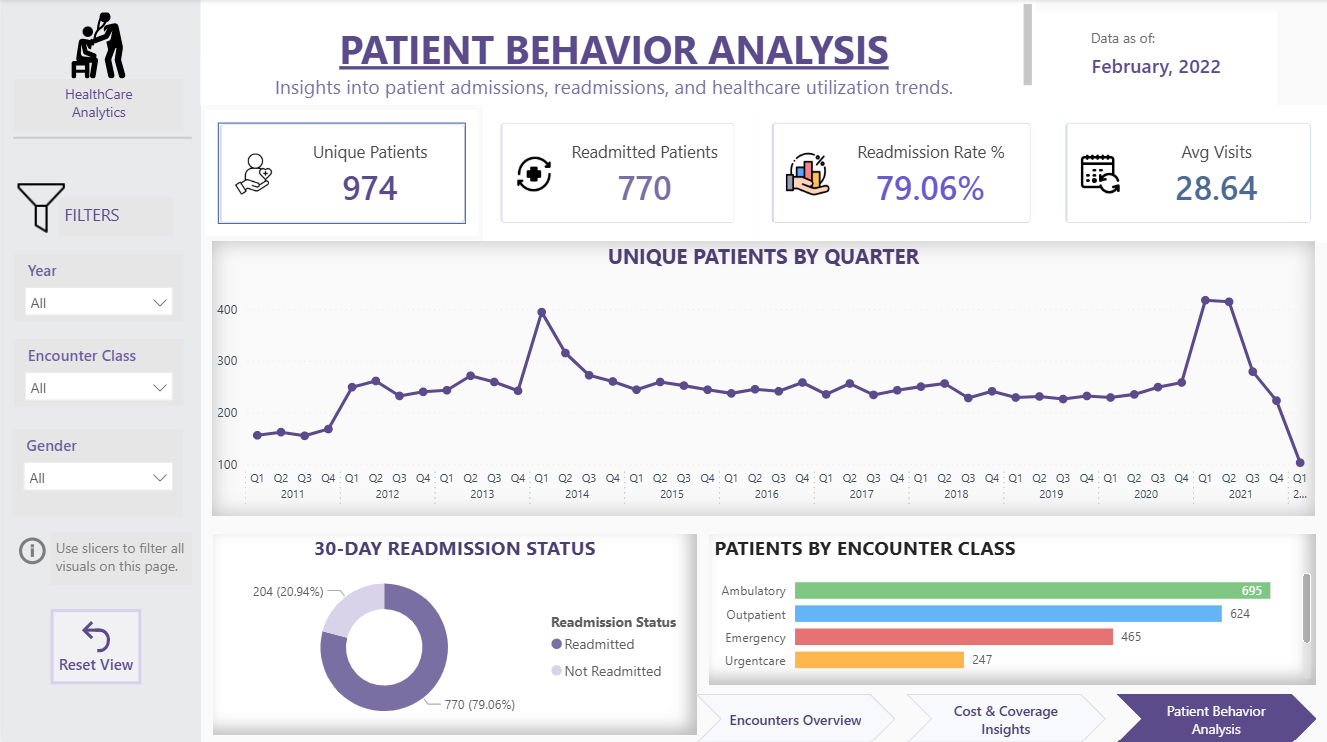

The dashboard page shown, as its layout file describes it:
{"tool":"powerbi","page":{"name":"Patient Behavior Analysis","canvas":[1280,720],"ordinal":2},"visuals":[{"type":"group","id":"g1","title":"Left Pane Group","box":[0,0,190.8,720.2],"z":0},{"type":"shape","title":"Sidebar BackgroundSidebar Background","box":[0,0,190.8,720.2],"z":0,"group":"g2"},{"type":"image","box":[25.4,12.1,134,65.1],"z":1000,"group":"g2"},{"type":"actionButton","box":[45.3,588.6,87.8,72.7],"z":1000},{"type":"textbox","box":[190.8,0,807.1,102.7],"z":2000},{"type":"textbox","box":[10.9,77.2,163,50.7],"z":2000,"group":"g2"},{"type":"cardVisual","fields":{"Data":["Measure.Unique Patients"]},"box":[190.7,102.9,273.1,131.7],"z":3000},{"type":"textbox","box":[54.3,191.8,109.9,37.4],"z":3000,"group":"g2"},{"type":"cardVisual","fields":{"Data":["Measure.Readmitted Patients"]},"box":[463.8,102.9,260.7,131.7],"z":4000},{"type":"image","box":[10.9,174.9,51.9,54.3],"z":4000,"group":"g2"},{"type":"cardVisual","fields":{"Data":["Measure.Readmission Rate %"]},"box":[724.5,102.9,284,131.7],"z":5000},{"type":"slicer","fields":{"Values":["Calendar.Year"]},"box":[10.9,246.1,163,65.1],"z":5000,"group":"g2"},{"type":"cardVisual","fields":{"Data":["Measure.Avg Encounters per Patient"]},"box":[1008.6,102.9,271.7,131.7],"z":6000},{"type":"shape","box":[9.7,127.9,172.7,12.1],"z":6000,"group":"g2"},{"type":"lineChart","title":"UNIQUE PATIENTS BY QUARTER","fields":{"Y":["Measure.Unique Patients"],"Category":["Calendar.Year Hierarchy.Year","Calendar.Year Hierarchy.Quarter","Calendar.Year Hierarchy.Month"]},"box":[201.7,234.6,1064.8,264.8],"z":7000},{"type":"slicer","fields":{"Values":["Encounters.ENCOUNTER CLASS(PROPER)"]},"box":[10.9,328.2,163,65.1],"z":7000,"group":"g2"},{"type":"cardVisual","title":"Data as of:","fields":{"Data":["Measure.Date_max"]},"box":[997.6,12.3,231.9,101.5],"z":8000},{"type":"slicer","fields":{"Values":["Patients.GENDER"]},"box":[9.7,415,164.2,84.5],"z":8000,"group":"g2"},{"type":"textbox","box":[1044.3,23.3,79.6,27.4],"z":9000},{"type":"actionButton","box":[10.9,515.2,41.1,35],"z":9000,"group":"g2"},{"type":"group","id":"g2","title":"Group 2","box":[0,0,190.8,720.2],"z":9010,"group":"g1"},{"type":"textbox","box":[45.9,515.2,136.4,50.7],"z":10000,"group":"g2"},{"type":"donutChart","title":"30-DAY READMISSION STATUS","fields":{"Y":["Measure.Readmission Patient Count"],"Category":["Readmission Status.Readmission Status"]},"box":[202.4,515.8,466.9,194.4],"z":10000},{"type":"clusteredBarChart","title":"PATIENTS BY ENCOUNTER CLASS","fields":{"Category":["Encounters.ENCOUNTER CLASS(PROPER)"],"Y":["Measure.Unique Patients"]},"box":[681.1,515.8,585.9,145.5],"z":11000},{"type":"pageNavigator","box":[667.9,670.6,599.1,48.9],"z":12000}]}

Visuals, with their boxes on the page's 1280x720 design canvas (x1, y1, x2, y2). These are canvas units, not pixel positions in the 1327x742 screenshot, which may show the page scaled, cropped or inside an application window:
"Left Pane Group" group: Rect(0, 0, 191, 720)
"Sidebar BackgroundSidebar Background" shape: Rect(0, 0, 191, 720)
image: Rect(25, 12, 159, 77)
actionButton: Rect(45, 589, 133, 661)
textbox: Rect(191, 0, 998, 103)
textbox: Rect(11, 77, 174, 128)
cardVisual - Measure.Unique Patients: Rect(191, 103, 464, 235)
textbox: Rect(54, 192, 164, 229)
cardVisual - Measure.Readmitted Patients: Rect(464, 103, 724, 235)
image: Rect(11, 175, 63, 229)
cardVisual - Measure.Readmission Rate %: Rect(724, 103, 1008, 235)
slicer - Calendar.Year: Rect(11, 246, 174, 311)
cardVisual - Measure.Avg Encounters per Patient: Rect(1009, 103, 1280, 235)
shape: Rect(10, 128, 182, 140)
"UNIQUE PATIENTS BY QUARTER" lineChart: Rect(202, 235, 1266, 499)
slicer - Encounters.ENCOUNTER CLASS(PROPER): Rect(11, 328, 174, 393)
"Data as of:" cardVisual: Rect(998, 12, 1230, 114)
slicer - Patients.GENDER: Rect(10, 415, 174, 500)
textbox: Rect(1044, 23, 1124, 51)
actionButton: Rect(11, 515, 52, 550)
"Group 2" group: Rect(0, 0, 191, 720)
textbox: Rect(46, 515, 182, 566)
"30-DAY READMISSION STATUS" donutChart: Rect(202, 516, 669, 710)
"PATIENTS BY ENCOUNTER CLASS" clusteredBarChart: Rect(681, 516, 1267, 661)
pageNavigator: Rect(668, 671, 1267, 720)
